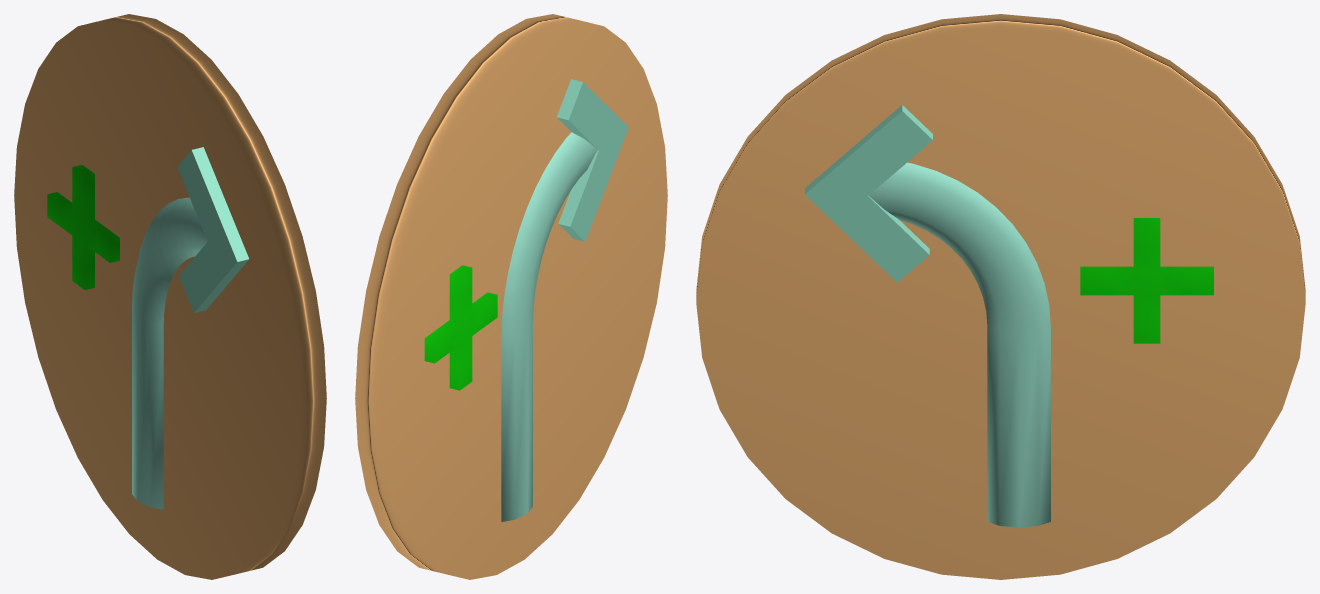
Rendered from torqueicon2.fbx.
The picture shows the model from 3 angles, left to right: view 1: azimuth 30°, elevation 25°; view 2: azimuth 150°, elevation 25°; view 3: azimuth 270°, elevation 25°; orthographic projection. The views are drawn at different scales.
Parts seen in each view (by area): view 1: Cylinder; view 2: Cylinder; view 3: Cylinder.
Boxes of the visible parts, bbox=[...] form: Cylinder: bbox=[14, 14, 326, 579]; Cylinder: bbox=[355, 14, 667, 579]; Cylinder: bbox=[696, 14, 1305, 579].
Size of the model in its own units: 37.47 by 368 by 368.
